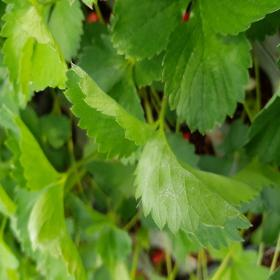Powdery Mildew Leaf: (132, 123, 254, 252), (63, 59, 160, 161)
